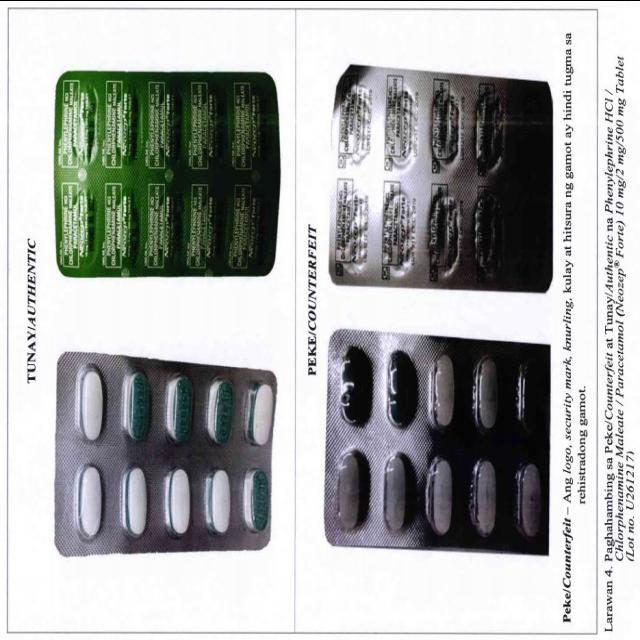authentic: (51, 356, 283, 558), (55, 73, 280, 281)
counterfeit: (322, 326, 554, 552), (328, 72, 560, 290)
